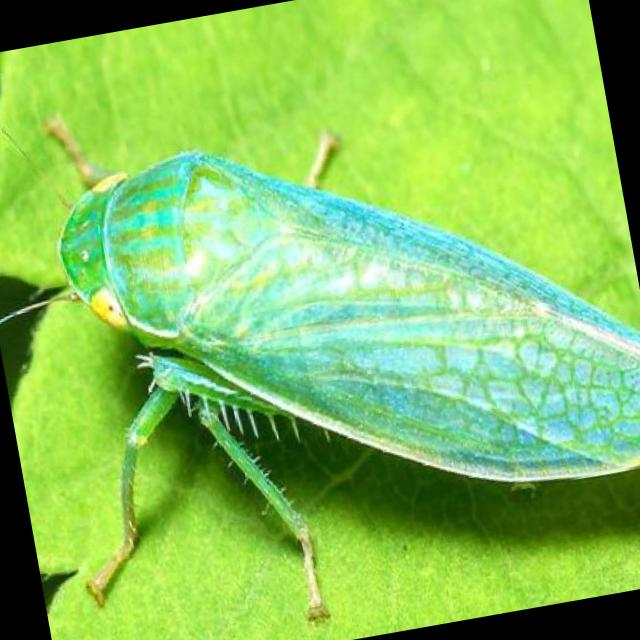green-leafhopper: (34, 82, 640, 607)
